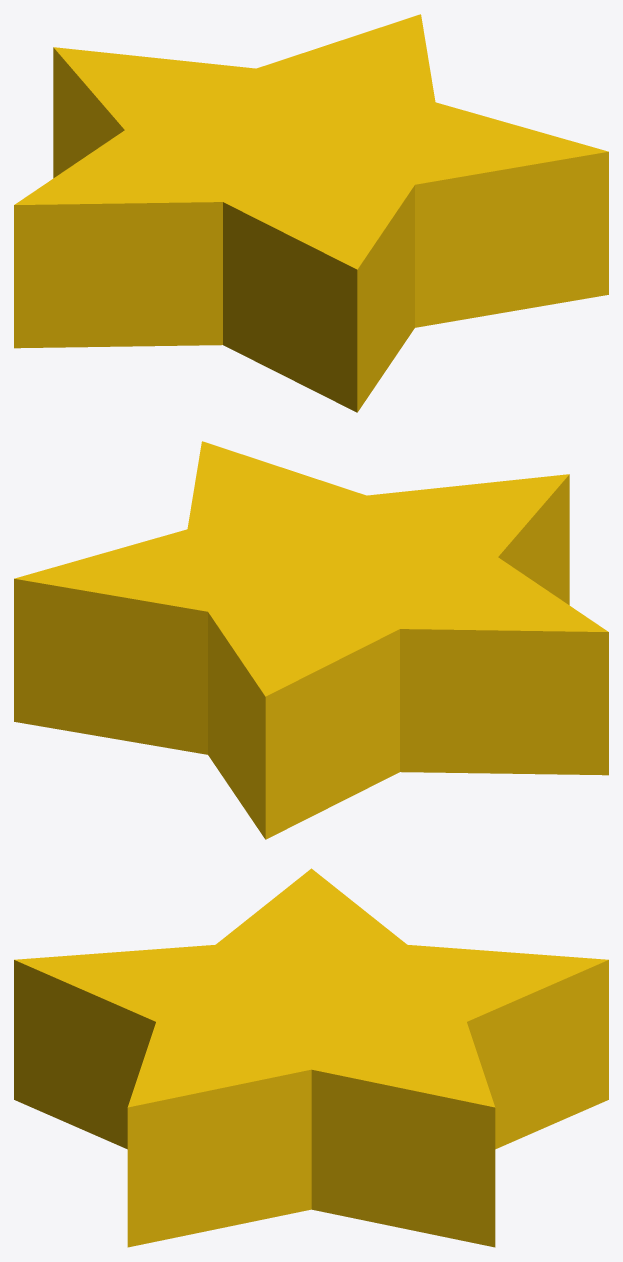
File: Star_v3.FBX
The picture shows the model from 3 angles, top to bottom: view 1: azimuth 30°, elevation 25°; view 2: azimuth 150°, elevation 25°; view 3: azimuth 270°, elevation 25°; orthographic projection. The views are drawn at different scales.
Parts seen in each view (by area): view 1: Star; view 2: Star; view 3: Star.
Boxes of the visible parts, bbox=[...] form: Star: bbox=[14, 14, 608, 412]; Star: bbox=[14, 441, 608, 839]; Star: bbox=[14, 868, 608, 1247].
Bounding box in the file's own units: 12.58 × 3.43 × 13.23.
